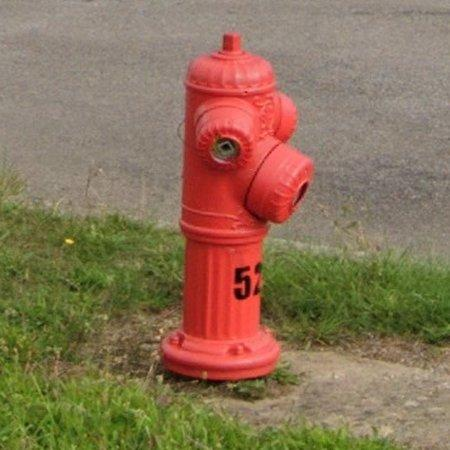a fire hydrant: (161, 32, 314, 382)
